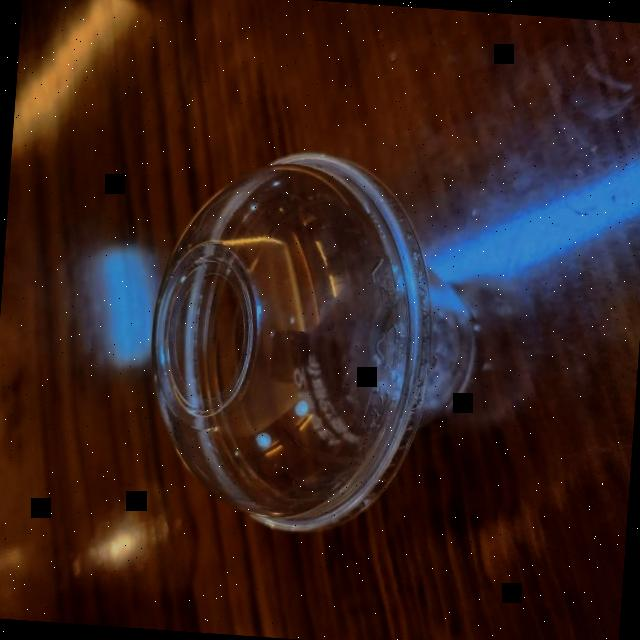plastic_cup_lid: (138, 137, 435, 544)
